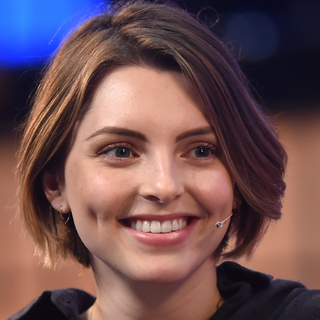eye: (93, 140, 143, 165), (180, 139, 224, 165)
